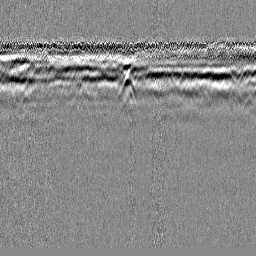cavity: (118, 72, 136, 100)
